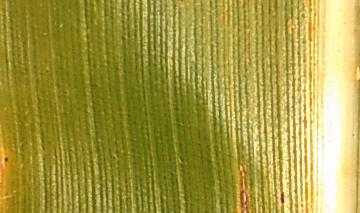tarspot: (279, 190, 285, 205), (119, 35, 127, 43), (3, 155, 10, 164)
